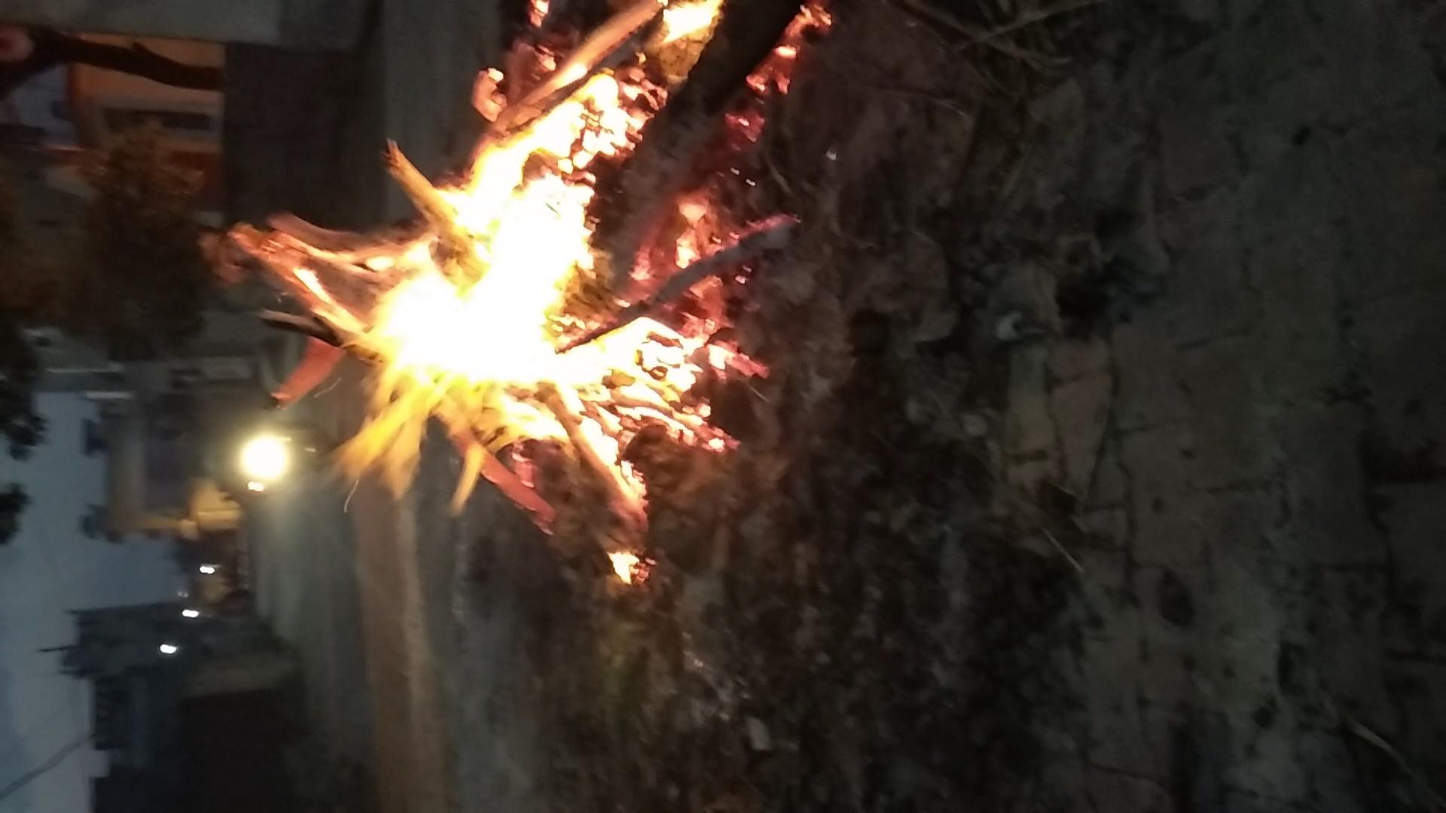fire: (490, 114, 1251, 431)
